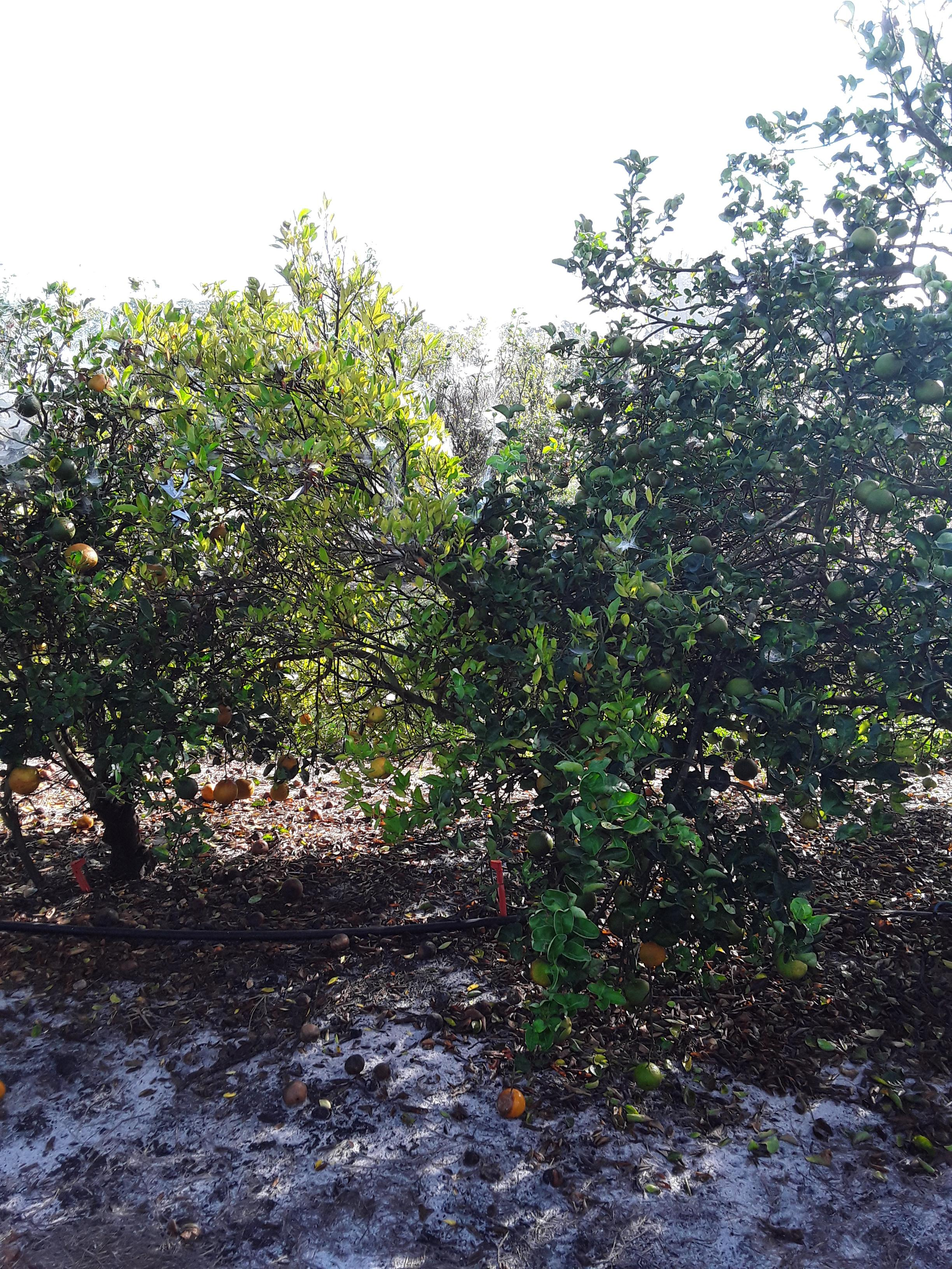fruit_on_ground: (63, 542, 100, 574), (774, 951, 811, 982), (631, 1059, 664, 1092), (620, 976, 654, 1008), (6, 764, 40, 796), (527, 953, 558, 987), (44, 512, 79, 542), (848, 223, 880, 255), (872, 351, 906, 381), (866, 486, 898, 517), (581, 746, 614, 776), (569, 655, 602, 685), (525, 827, 556, 858), (913, 377, 946, 406), (716, 917, 748, 946), (637, 939, 667, 969), (643, 666, 675, 694), (854, 478, 883, 507), (142, 560, 172, 588), (854, 645, 884, 673), (824, 577, 854, 605), (725, 675, 756, 702), (699, 612, 730, 639), (273, 753, 301, 780), (212, 777, 238, 806), (208, 701, 235, 728), (365, 753, 393, 779), (14, 392, 42, 418), (52, 456, 80, 482), (732, 756, 760, 781), (636, 580, 663, 605), (686, 533, 714, 556), (609, 334, 634, 359), (28, 637, 52, 663), (173, 776, 199, 800), (922, 512, 948, 536), (625, 282, 651, 306), (532, 770, 557, 794), (206, 519, 231, 543), (86, 371, 111, 395), (233, 775, 255, 802), (620, 442, 644, 465), (637, 438, 660, 460), (798, 809, 821, 831), (644, 469, 667, 491), (268, 779, 290, 801), (365, 703, 387, 724), (894, 451, 915, 472), (583, 407, 605, 427), (553, 391, 573, 411), (572, 401, 593, 420), (344, 725, 364, 743), (914, 761, 934, 778), (553, 471, 572, 488), (721, 735, 738, 753), (586, 428, 605, 444), (298, 711, 315, 726)
fruit_on_tree: (492, 1084, 529, 1122), (51, 1048, 81, 1078), (280, 1078, 310, 1108), (278, 875, 307, 905), (341, 1050, 367, 1077), (297, 1019, 322, 1044), (72, 812, 95, 832), (199, 782, 219, 804), (329, 933, 350, 951), (249, 839, 269, 856), (0, 1074, 10, 1105), (921, 774, 938, 791), (309, 808, 323, 822), (298, 786, 312, 799), (291, 777, 304, 789), (324, 799, 335, 809), (345, 815, 355, 825)
